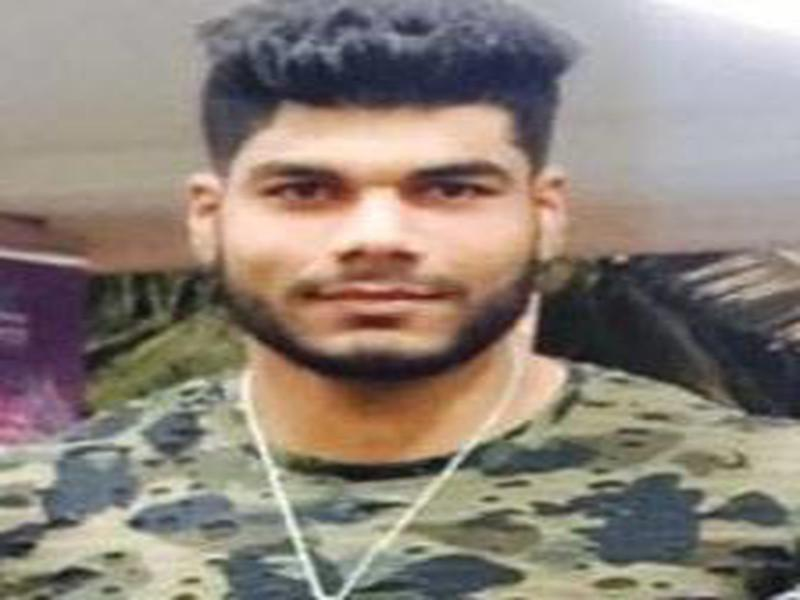without_mask: (223, 102, 534, 387)
